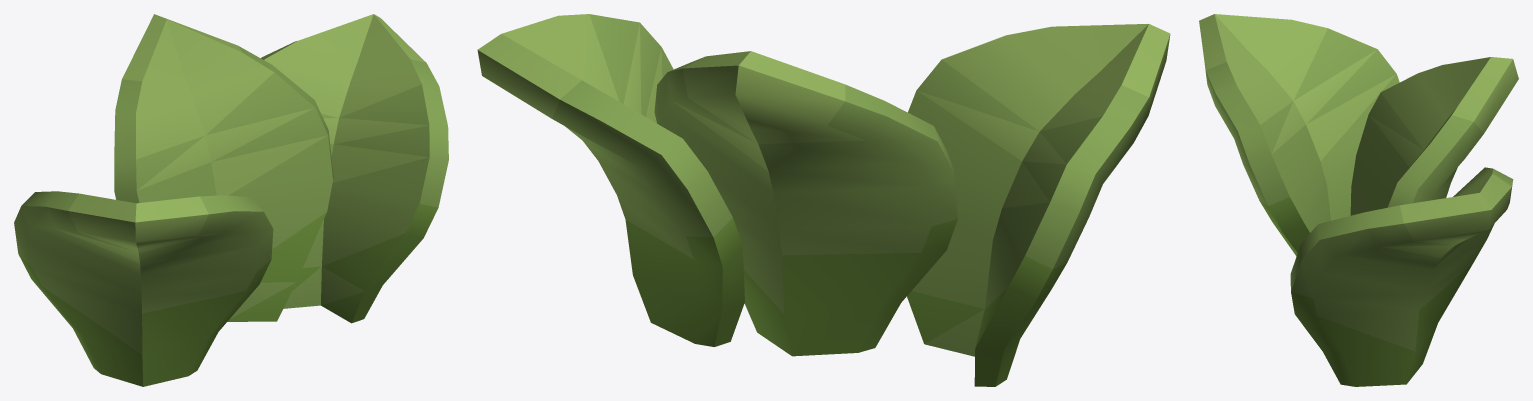
The model's file is itch_tiny_homely_house_foliage_b.glb.
The picture shows the model from 3 angles, left to right: view 1: azimuth 30°, elevation 25°; view 2: azimuth 150°, elevation 25°; view 3: azimuth 270°, elevation 25°; orthographic projection. The views are drawn at different scales.
Visible parts, largest first — view 1: foliage_B; view 2: foliage_B; view 3: foliage_B.
Boxes of the visible parts, x1,y1,x2,y2 form: foliage_B: (14, 14, 448, 386); foliage_B: (477, 14, 1170, 386); foliage_B: (1199, 14, 1518, 386).
Size of the model in its own units: 0.96 by 0.5909 by 0.6355.
